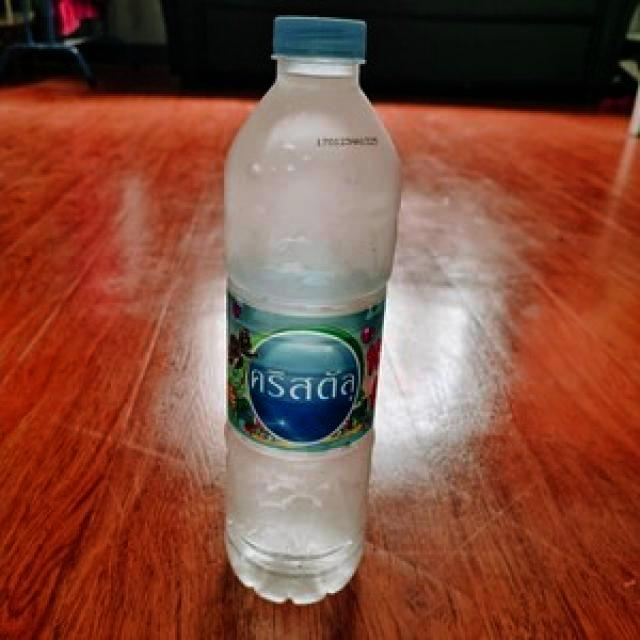bottle: (224, 17, 402, 605)
